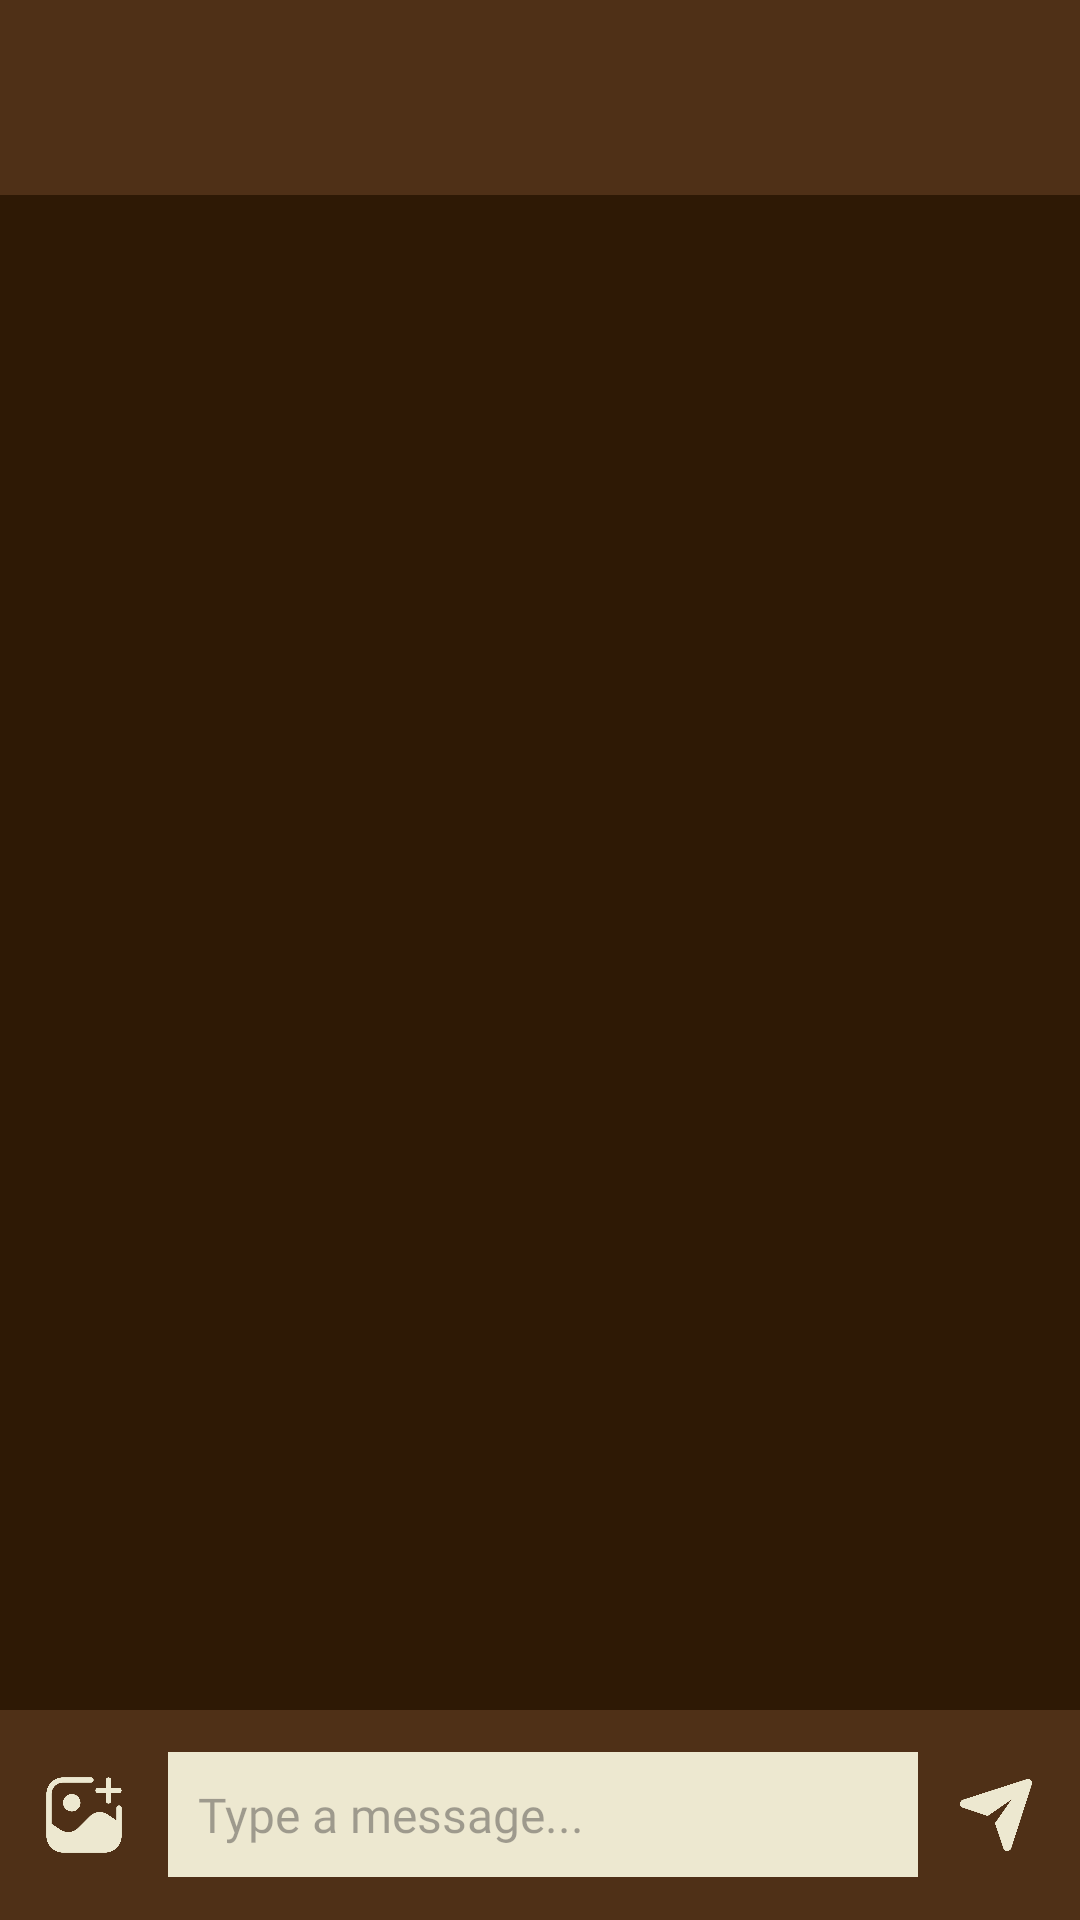

Where icons sit on this 1080px x 1920px app screen, as (x1, y1, x2, y2):
Pick Image: (46, 1777, 122, 1853)
Send: (960, 1779, 1032, 1851)
